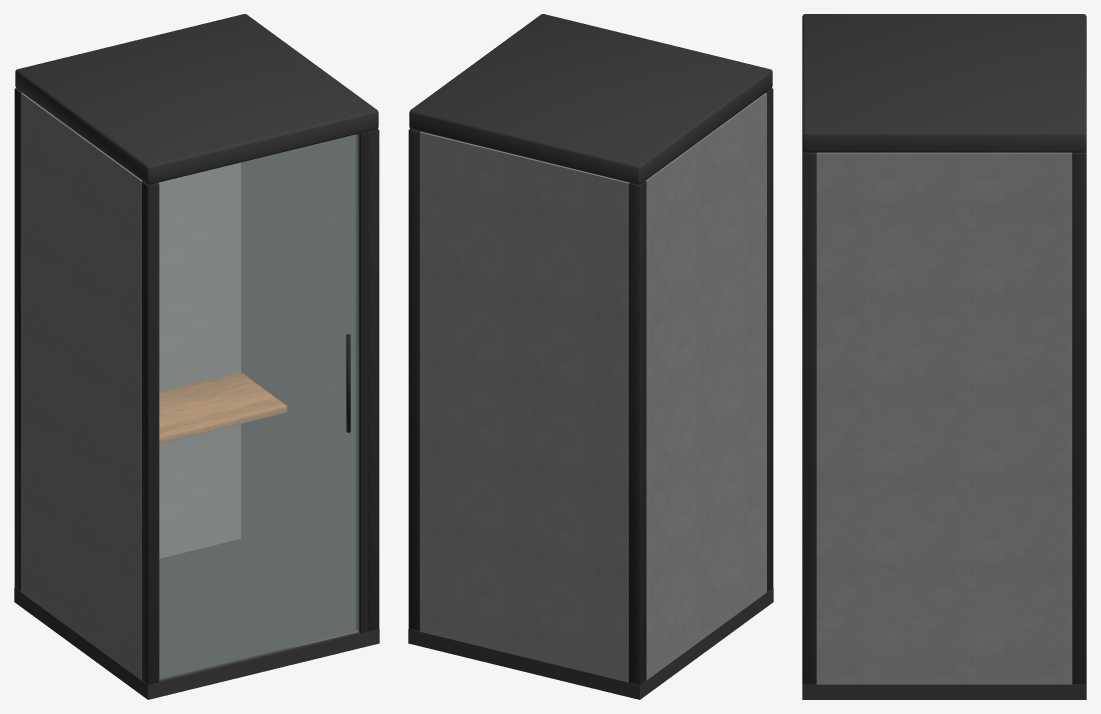
File: architecture.phone-booth.glb
3 renders of one model, left to right at view 1: azimuth 30°, elevation 25°; view 2: azimuth 150°, elevation 25°; view 3: azimuth 270°, elevation 25°, orthographic. The views are drawn at different scales.
Parts seen in each view (by area): view 1: architecture.phone-booth.001; view 2: architecture.phone-booth.001; view 3: architecture.phone-booth.001.
Boxes of the visible parts, x1,y1,x2,y2 form: architecture.phone-booth.001: [14, 14, 379, 699]; architecture.phone-booth.001: [408, 14, 773, 699]; architecture.phone-booth.001: [802, 14, 1086, 699].
Bounding box in the file's own units: 1 × 2.2 × 1.
5 materials, 2 textured.
